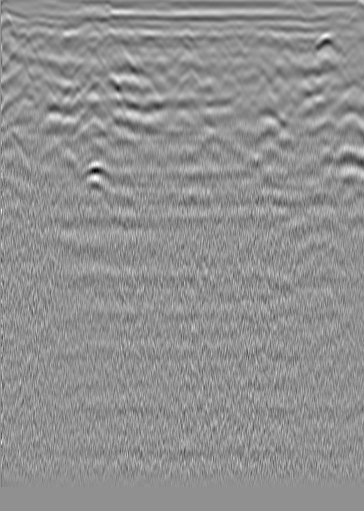가스: (73, 162, 116, 195)
상수: (313, 32, 333, 52)
오수: (23, 29, 43, 49)
우수: (178, 29, 198, 49)
